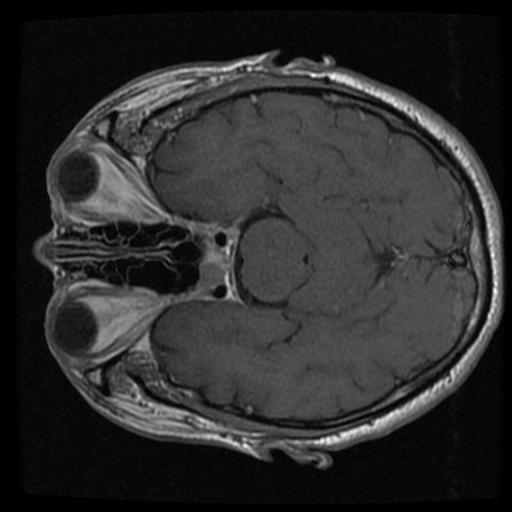pituitary tumour: (195, 251, 229, 297)
